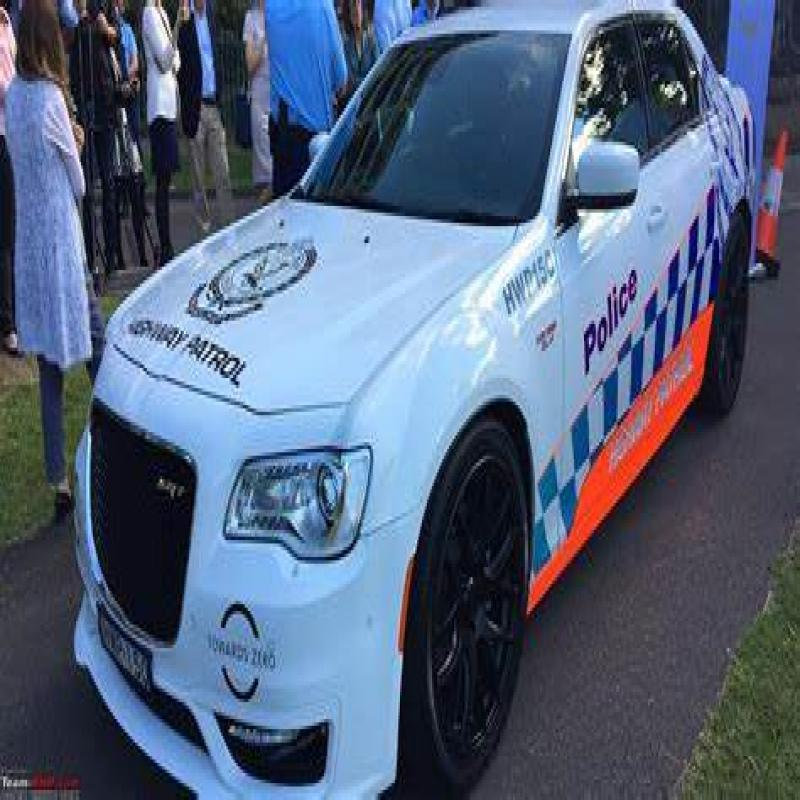car: (47, 0, 800, 800)
